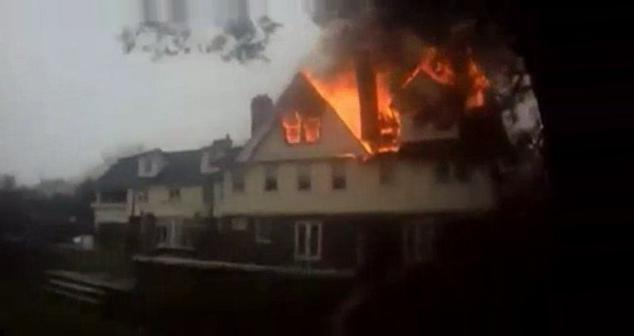fire: (325, 81, 360, 121)
